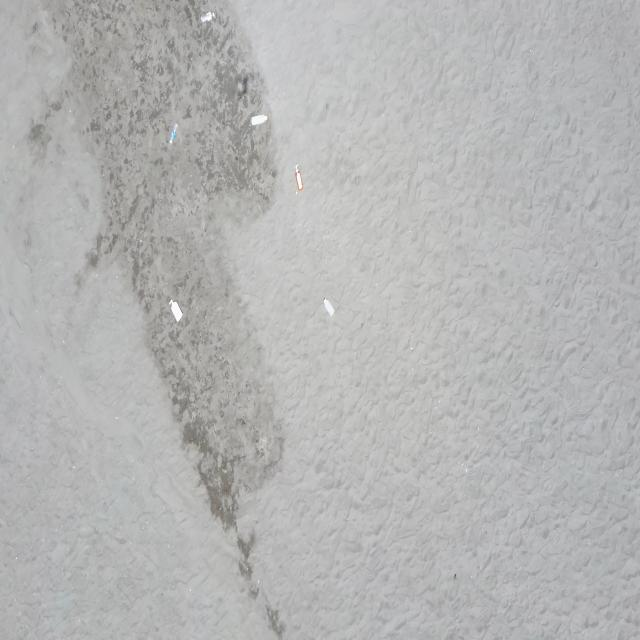Garbage: (169, 300, 181, 320), (236, 75, 247, 96), (296, 163, 303, 191), (168, 123, 176, 143), (251, 115, 267, 124), (324, 298, 332, 316), (200, 11, 213, 22)
